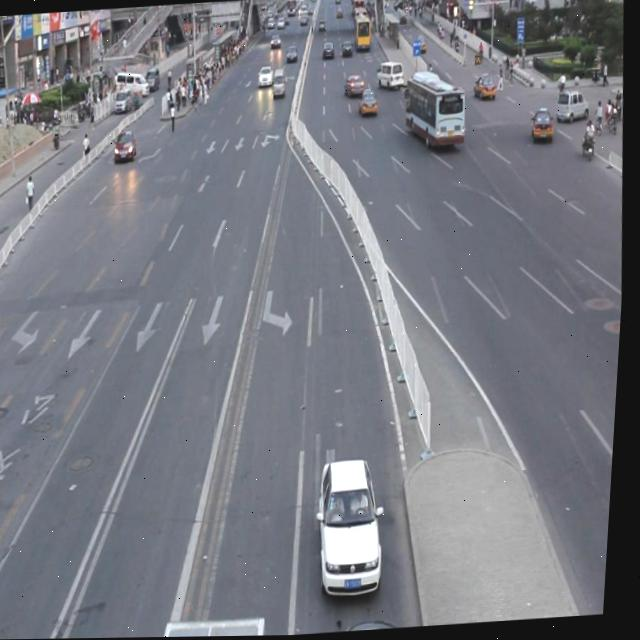bus: (162, 613, 275, 638)
car: (317, 456, 395, 599), (344, 615, 417, 633)
